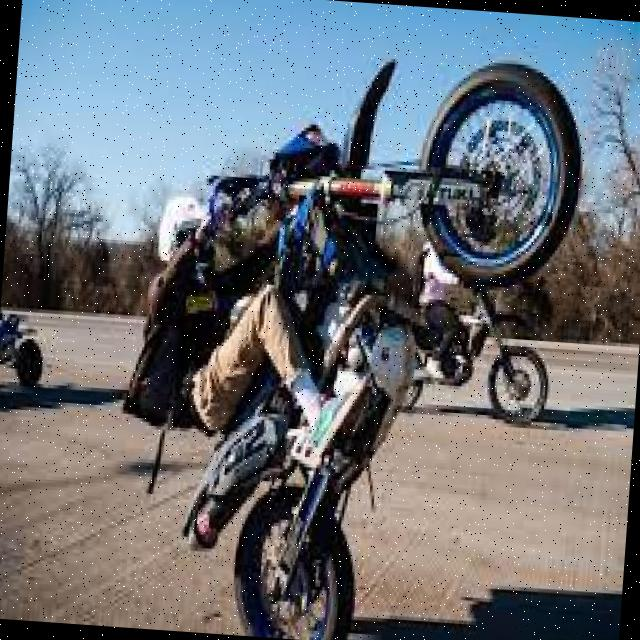Wheeling: (117, 29, 586, 640)
